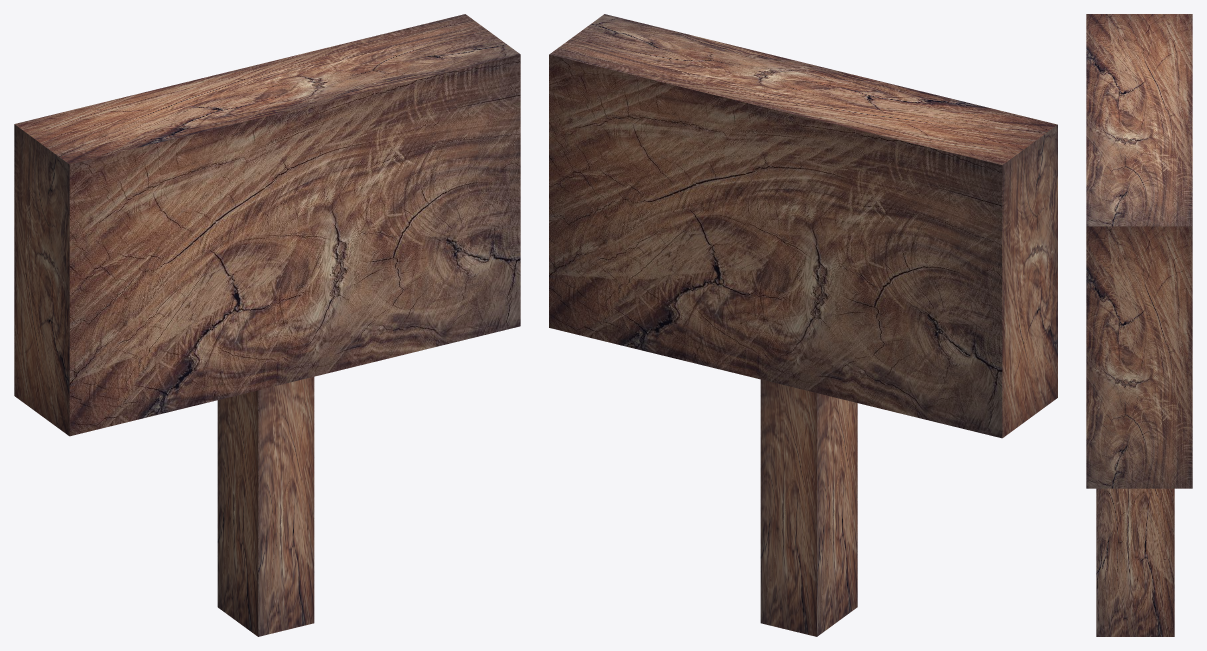
Rendered from woodenSign.FBX.
The picture shows the model from 3 angles, left to right: view 1: azimuth 30°, elevation 25°; view 2: azimuth 150°, elevation 25°; view 3: azimuth 270°, elevation 25°; orthographic projection. The views are drawn at different scales.
Parts seen in each view (by area): view 1: Box001, Box002; view 2: Box001, Box002; view 3: Box001, Box002.
Part boxes in pixels (x1=…): Box001: x1=14, y1=14, x2=520, y2=436; Box002: x1=217, y1=377, x2=314, y2=636; Box001: x1=549, y1=14, x2=1057, y2=438; Box002: x1=760, y1=379, x2=857, y2=636; Box001: x1=1086, y1=14, x2=1192, y2=488; Box002: x1=1096, y1=488, x2=1174, y2=636.
Size of the model in its own units: 21.32 by 23.65 by 4.52.
1 material, 1 textured.
